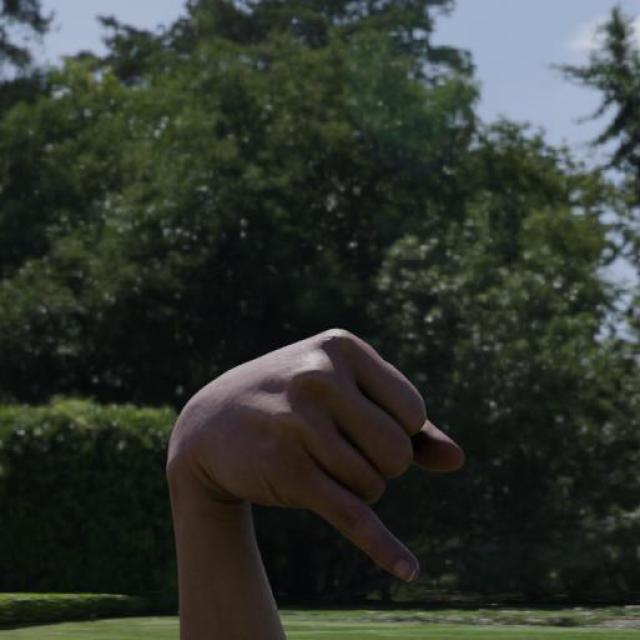J: (162, 324, 470, 586)
